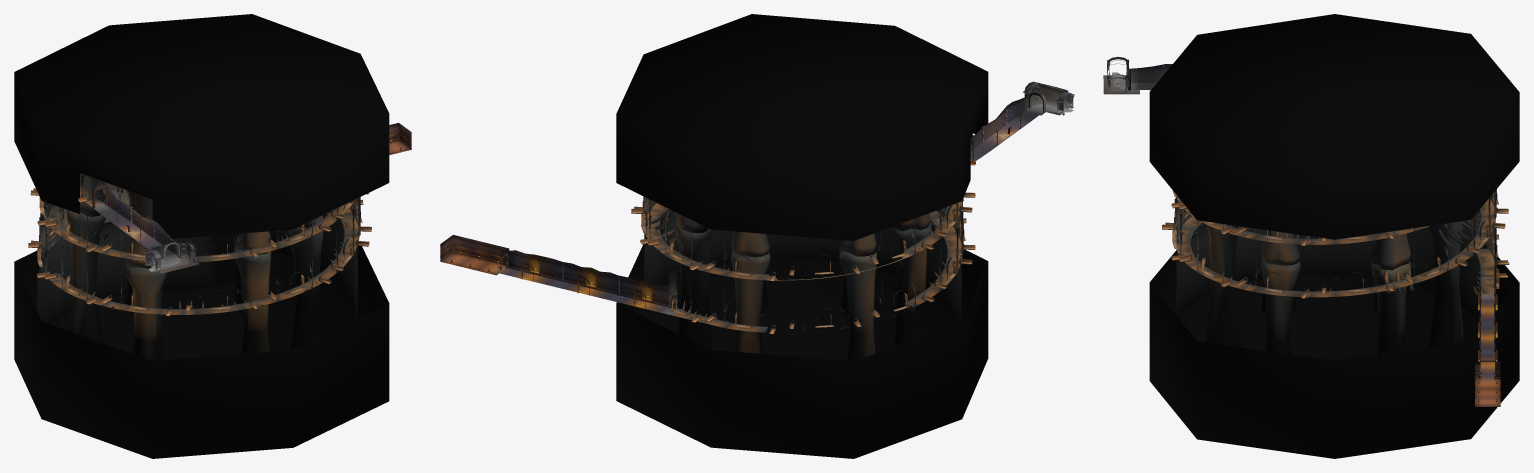
File: 07Spiral.gltf
3 views of the same model, side by side, from view 1: azimuth 30°, elevation 25°; view 2: azimuth 150°, elevation 25°; view 3: azimuth 270°, elevation 25° (orthographic).
Visible parts, largest first — view 1: stg040_o34_Mesh_0000, stg040_o26_Mesh_0000, stg040_o34_Mesh_0002, stg040_o34_Mesh_0001, stg040_o26_Mesh_0007, stg040_k27_Mesh_0000, stg040_o26_Mesh_0004, stg040_o27_Mesh_0008, stg040_o34_Mesh_0005, stg041_o25_Mesh_0013, stg040_o53_Mesh_0003; view 2: stg040_o34_Mesh_0000, stg040_o26_Mesh_0000, stg040_o34_Mesh_0002, stg040_o34_Mesh_0001, stg040_o26_Mesh_0004, stg040_o26_Mesh_0007, stg040_o27_Mesh_0008, stg040_o30_Mesh_0015, stg040_o53_Mesh_0003, stg040_o30_Mesh_0035, stg040_k27_Mesh_0000; view 3: stg040_o34_Mesh_0000, stg040_o26_Mesh_0000, stg040_o34_Mesh_0002, stg040_o34_Mesh_0001, stg040_o26_Mesh_0004, stg040_o26_Mesh_0007, stg040_k27_Mesh_0000, stg040_o30_Mesh_0035, stg040_o27_Mesh_0008, stg040_o30_Mesh_0025.
Boxes of the visible parts, left/top/right/bottom form: stg040_o34_Mesh_0000: left=14, top=14, right=389, bottom=458; stg040_o26_Mesh_0000: left=39, top=123, right=410, bottom=360; stg040_o34_Mesh_0002: left=37, top=123, right=411, bottom=324; stg040_o34_Mesh_0001: left=39, top=133, right=411, bottom=314; stg040_o26_Mesh_0007: left=28, top=188, right=371, bottom=315; stg040_k27_Mesh_0000: left=69, top=188, right=358, bottom=313; stg040_o26_Mesh_0004: left=37, top=202, right=362, bottom=310; stg040_o27_Mesh_0008: left=37, top=138, right=411, bottom=308; stg040_o34_Mesh_0005: left=40, top=182, right=358, bottom=246; stg041_o25_Mesh_0013: left=106, top=190, right=194, bottom=272; stg040_o53_Mesh_0003: left=107, top=139, right=411, bottom=270; stg040_o34_Mesh_0000: left=616, top=14, right=988, bottom=458; stg040_o26_Mesh_0000: left=441, top=197, right=963, bottom=361; stg040_o34_Mesh_0002: left=440, top=81, right=1068, bottom=322; stg040_o34_Mesh_0001: left=440, top=104, right=1073, bottom=331; stg040_o26_Mesh_0004: left=501, top=97, right=1071, bottom=328; stg040_o26_Mesh_0007: left=631, top=160, right=975, bottom=334; stg040_o27_Mesh_0008: left=440, top=201, right=963, bottom=328; stg040_o30_Mesh_0015: left=440, top=246, right=674, bottom=306; stg040_o53_Mesh_0003: left=440, top=95, right=1071, bottom=308; stg040_o30_Mesh_0035: left=442, top=253, right=506, bottom=274; stg040_k27_Mesh_0000: left=644, top=204, right=960, bottom=331; stg040_o34_Mesh_0000: left=1149, top=14, right=1519, bottom=458; stg040_o26_Mesh_0000: left=1174, top=189, right=1497, bottom=400; stg040_o34_Mesh_0002: left=1107, top=64, right=1500, bottom=371; stg040_o34_Mesh_0001: left=1112, top=72, right=1500, bottom=398; stg040_o26_Mesh_0004: left=1103, top=74, right=1499, bottom=379; stg040_o26_Mesh_0007: left=1162, top=202, right=1509, bottom=298; stg040_k27_Mesh_0000: left=1175, top=198, right=1496, bottom=295; stg040_o30_Mesh_0035: left=1475, top=379, right=1500, bottom=406; stg040_o27_Mesh_0008: left=1172, top=189, right=1500, bottom=404; stg040_o30_Mesh_0025: left=1480, top=296, right=1494, bottom=379.
Size of the model in its own units: 235 by 147 by 191.
